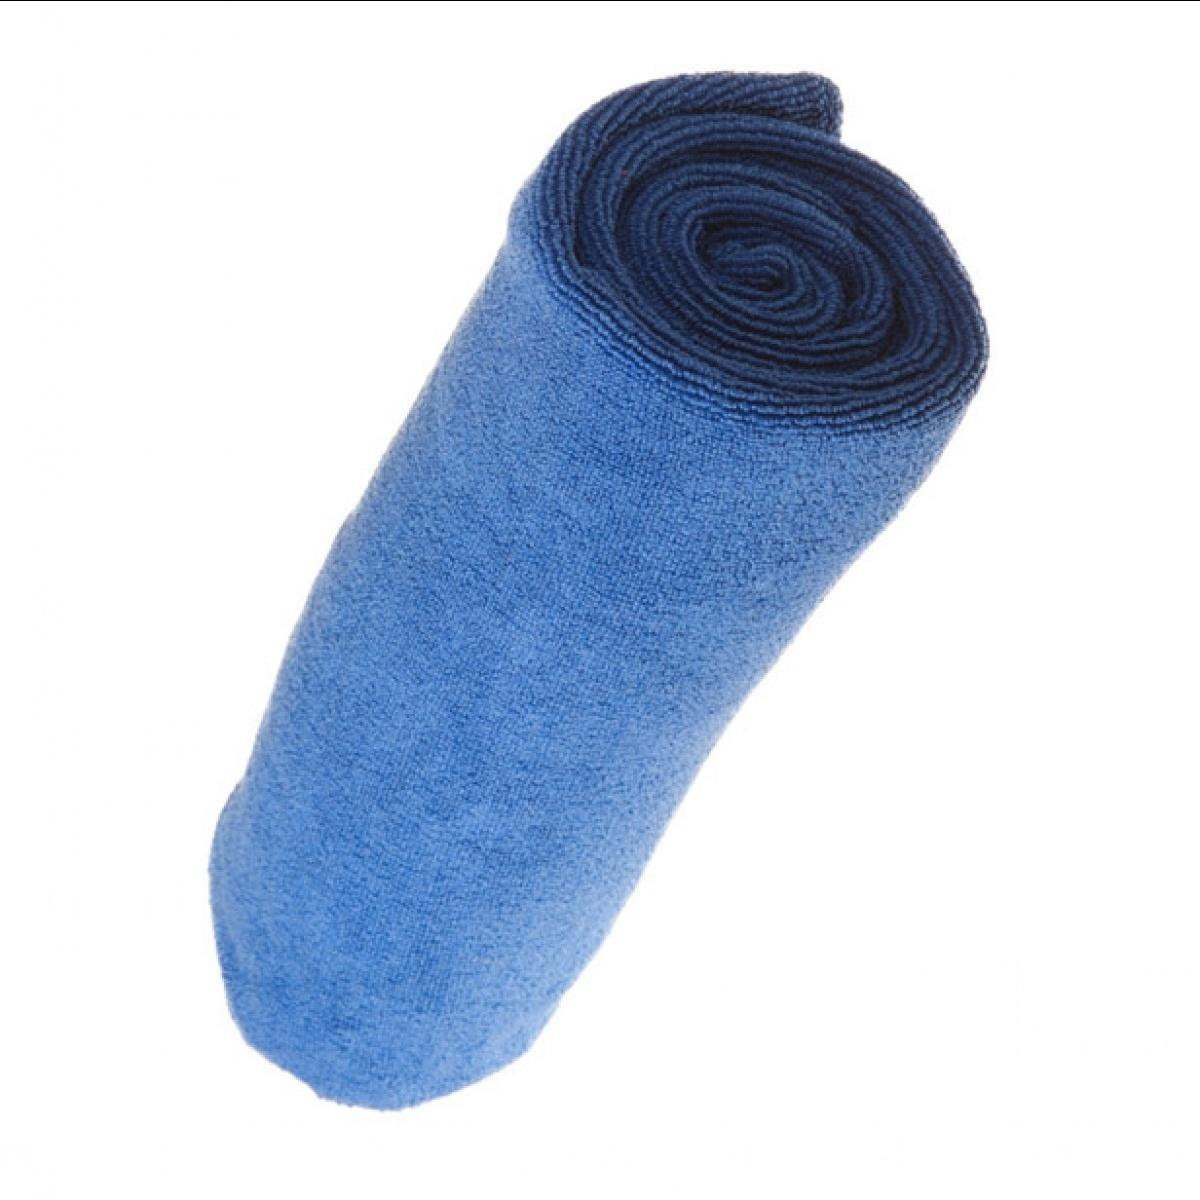towel: (180, 45, 1010, 1160)
